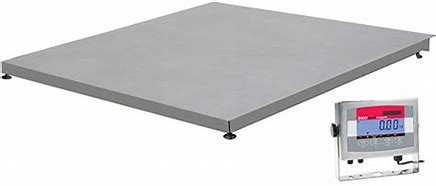Industrial Scale: (2, 1, 436, 183)
